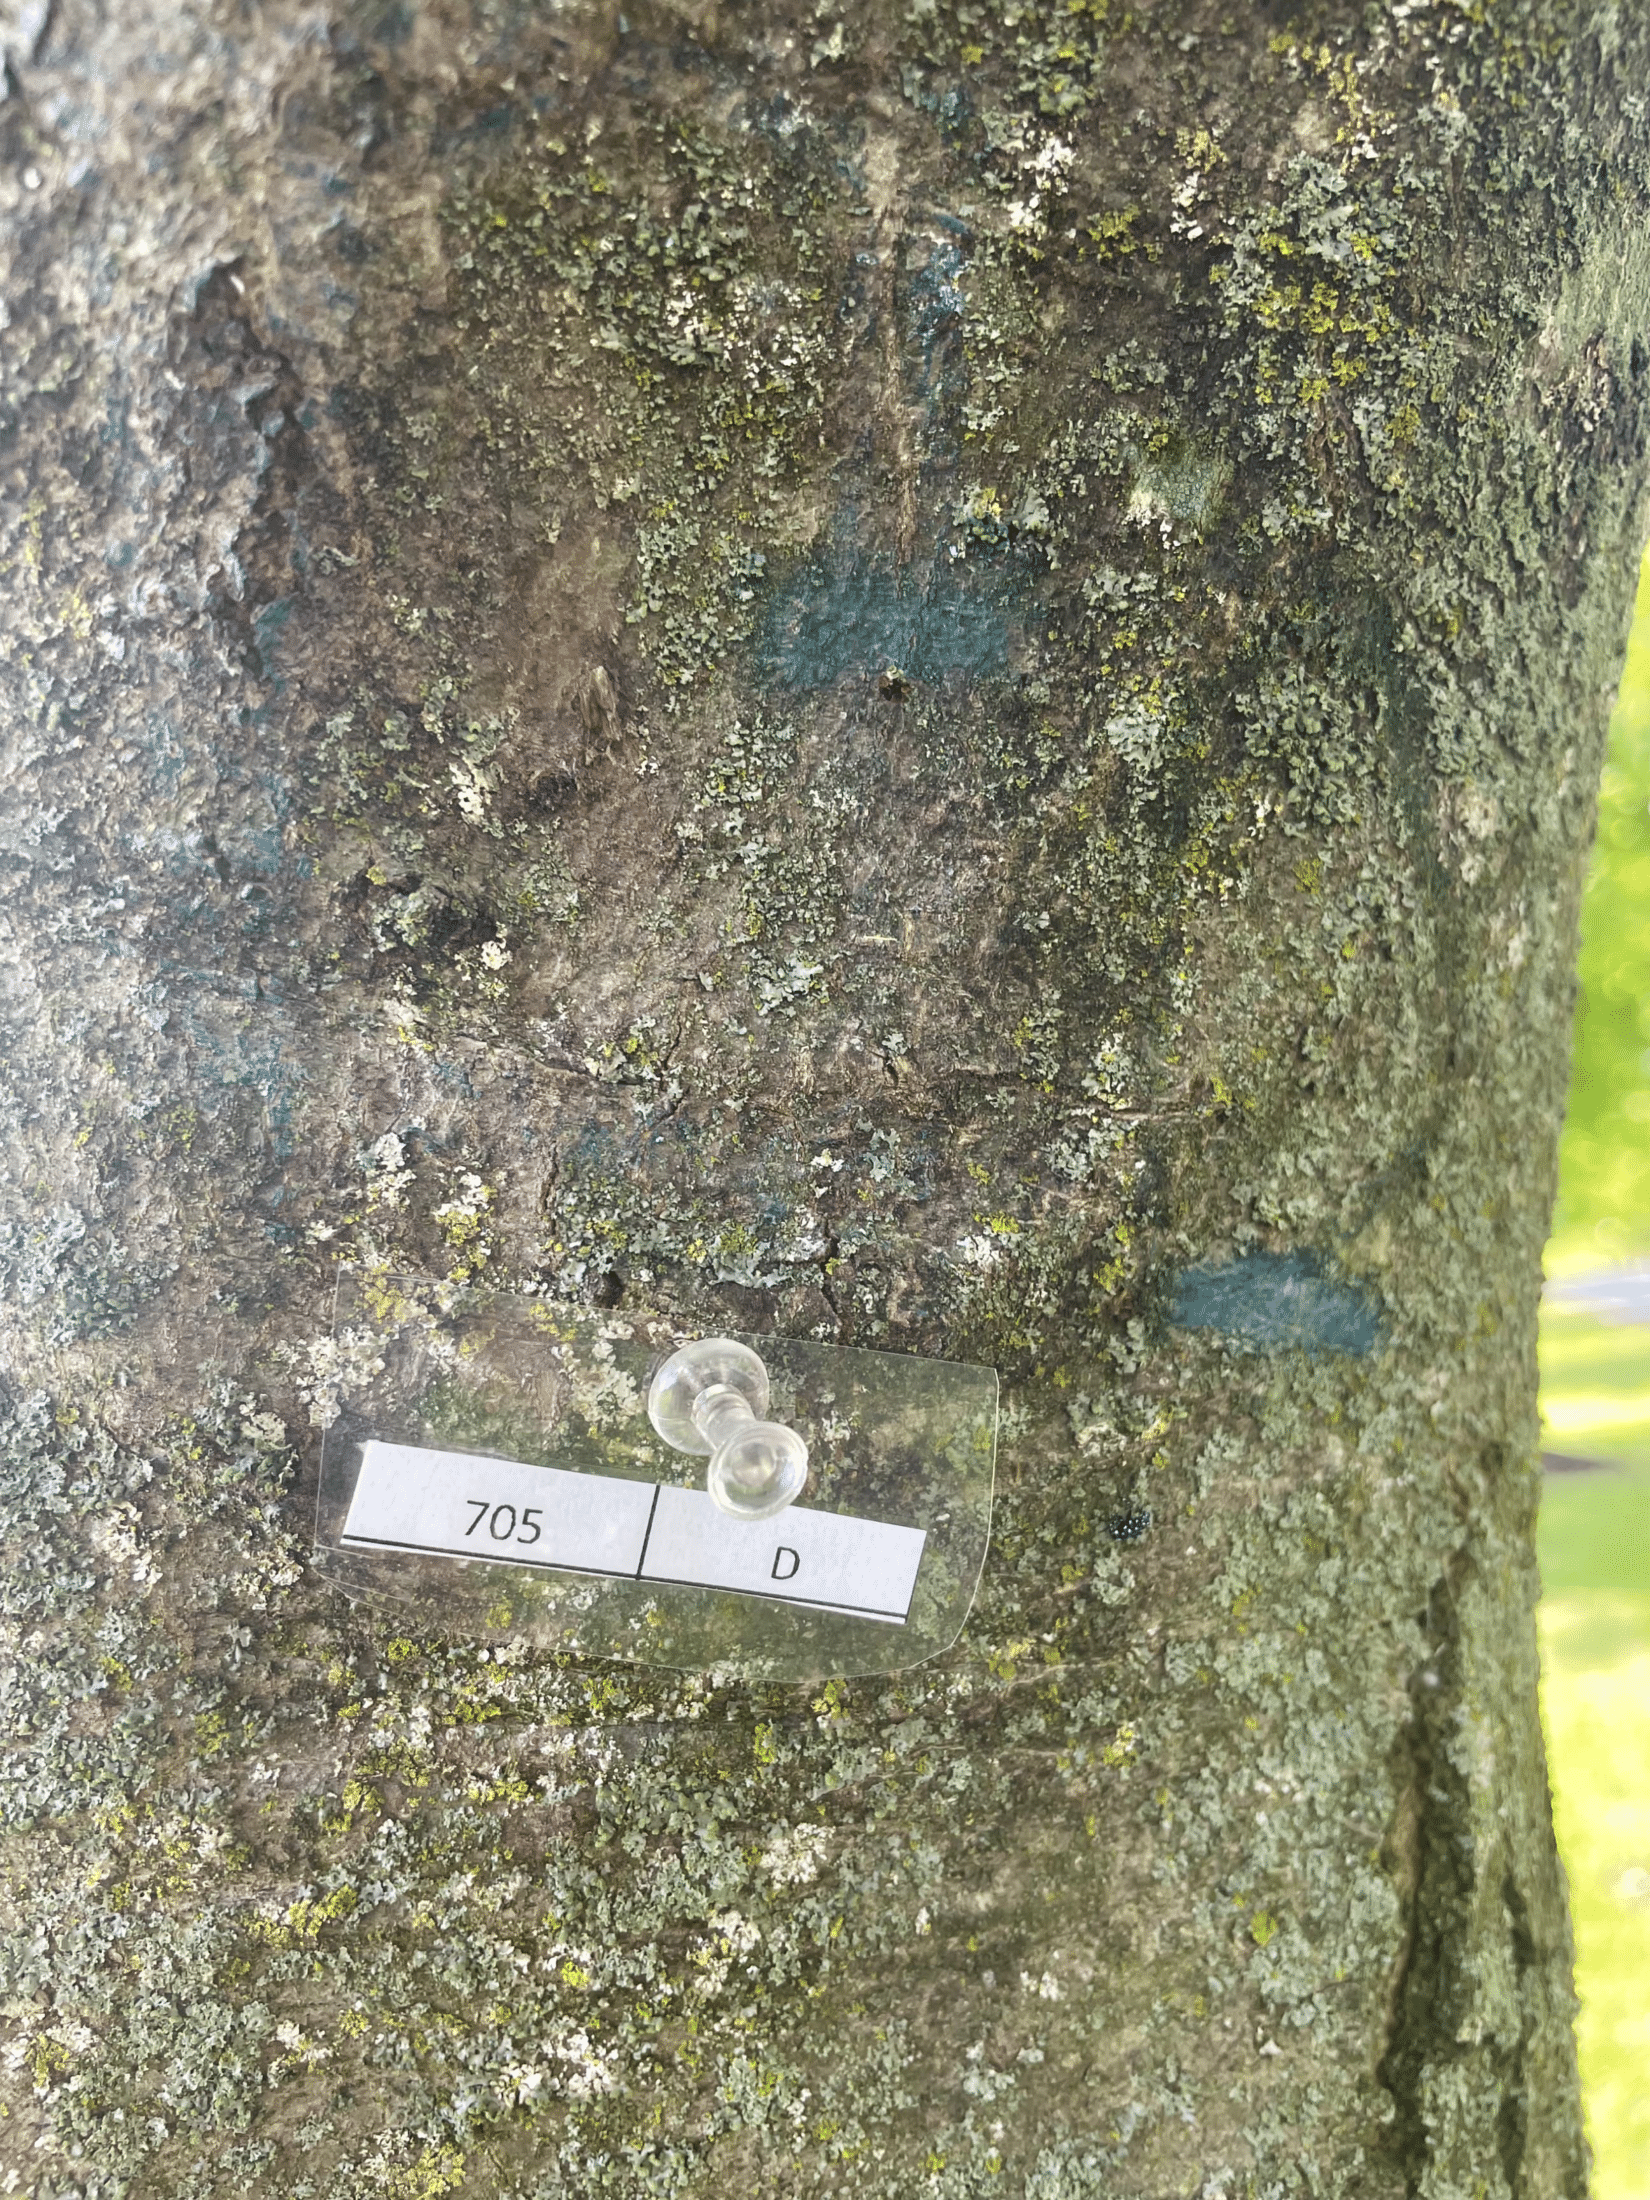egg masses: (536, 956, 641, 1045), (588, 669, 640, 754), (447, 762, 489, 825)
